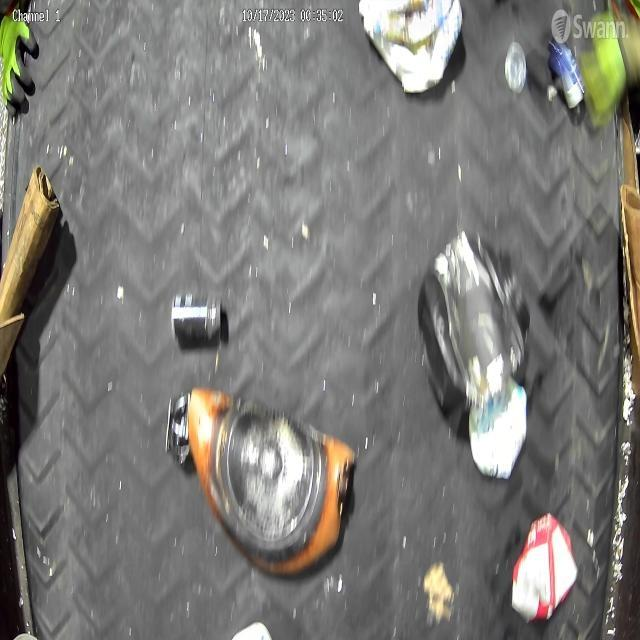non_white_jug: (418, 232, 530, 412)
